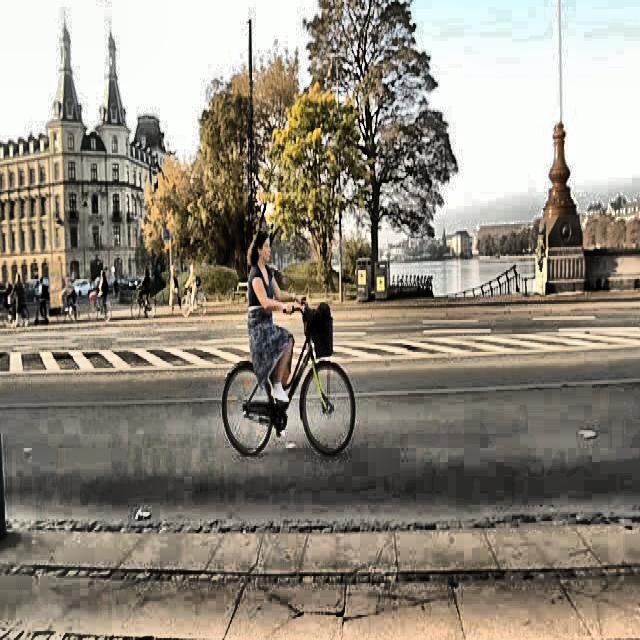bicycle: (220, 323, 358, 458)
